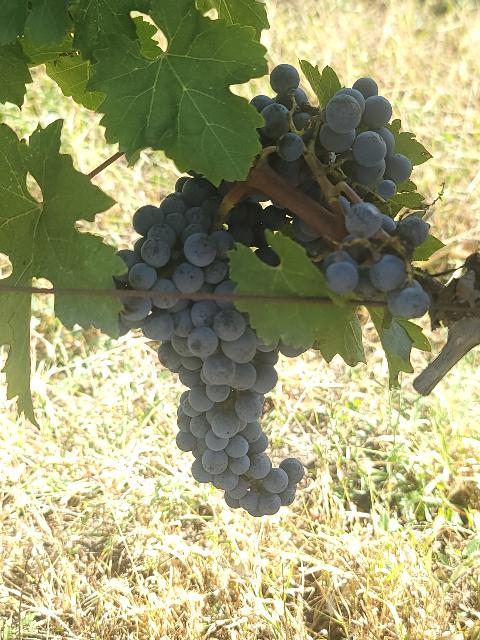grapes: (116, 175, 304, 516), (251, 64, 429, 250)
